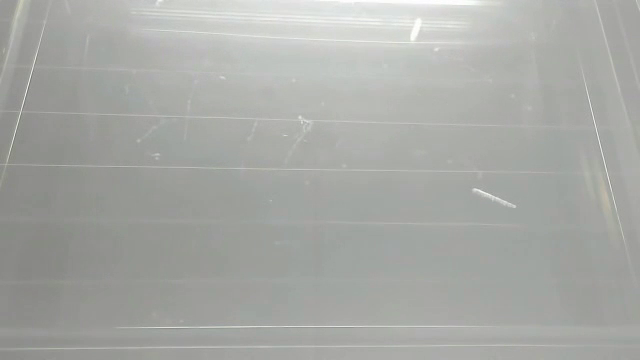alpha: (468, 184, 519, 212), (407, 16, 424, 44)
